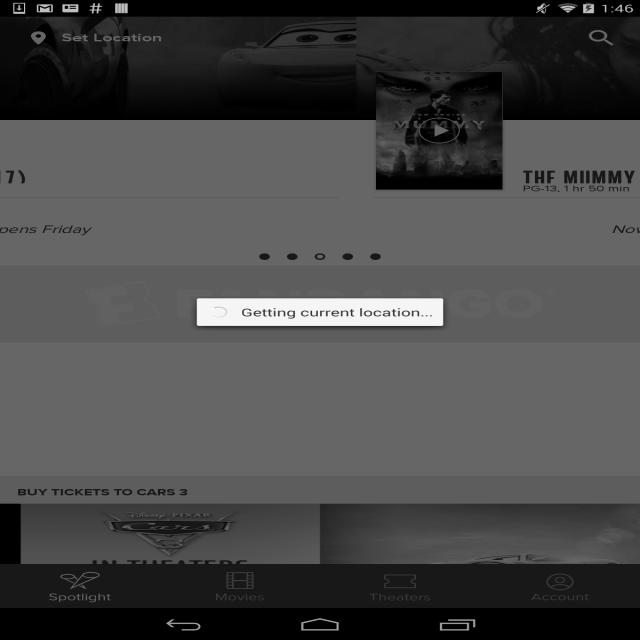Button: (17, 215, 153, 242), (162, 215, 298, 242), (306, 215, 442, 242), (451, 215, 586, 242)
ImageView: (0, 0, 640, 120), (17, 281, 623, 327), (19, 71, 147, 190), (0, 566, 160, 606), (160, 566, 320, 606), (320, 566, 480, 606), (528, 566, 592, 606), (60, 116, 106, 145), (26, 30, 51, 46), (589, 30, 614, 46)
ProgressBar: (288, 390, 352, 430), (288, 486, 352, 526)
TextView: (0, 537, 640, 565), (166, 168, 324, 183), (17, 203, 182, 212), (166, 183, 274, 192), (62, 31, 111, 45), (589, 203, 623, 212)
